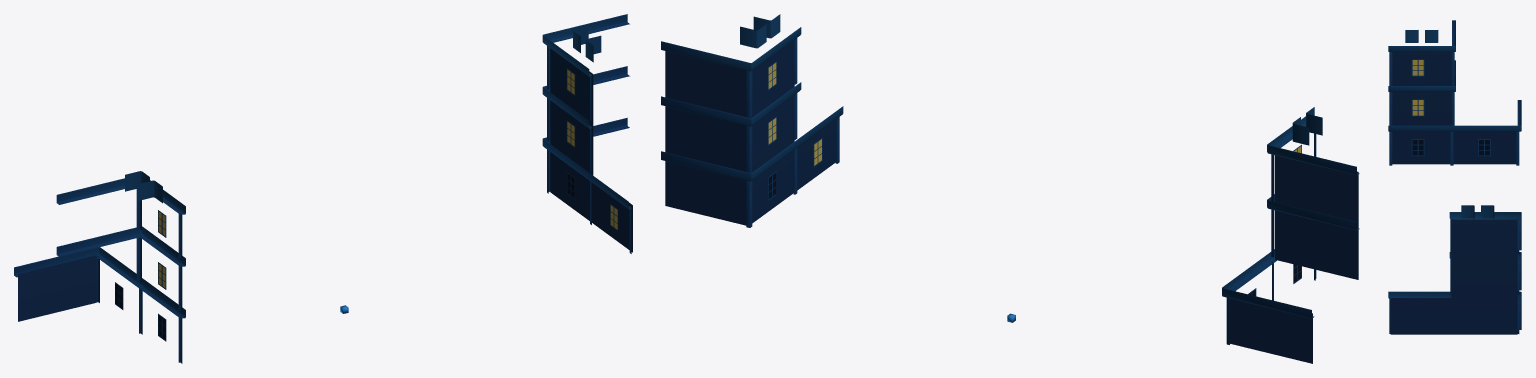
File: FarBackBuilding02Night.fbx
3 views of the same model, side by side, from view 1: azimuth 30°, elevation 25°; view 2: azimuth 150°, elevation 25°; view 3: azimuth 270°, elevation 25° (orthographic). The views are drawn at different scales.
Parts seen in each view (by area): view 1: FarBackBuilding02Night; view 2: FarBackBuilding02Night; view 3: FarBackBuilding02Night.
Part boxes in pixels (<box>): FarBackBuilding02Night: <box>14,14,632,363</box>; FarBackBuilding02Night: <box>661,14,1359,363</box>; FarBackBuilding02Night: <box>1388,20,1521,334</box>.
Size of the model in its own units: 7634 by 2628 by 1869.
